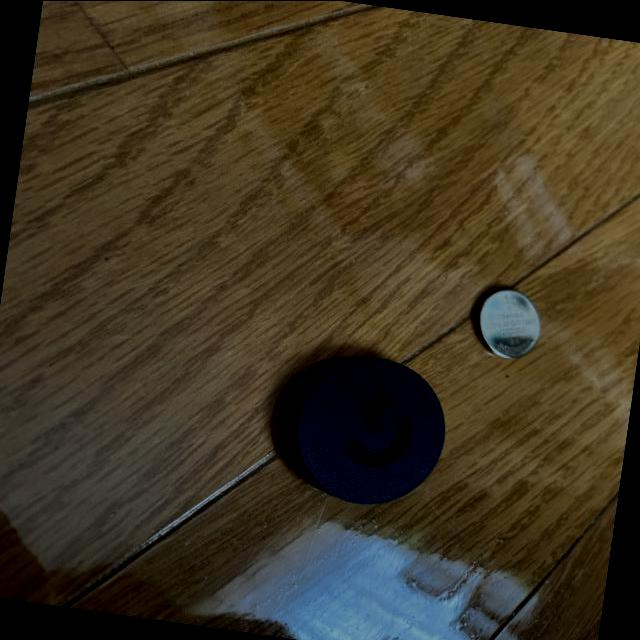COIN: (471, 284, 544, 364)
